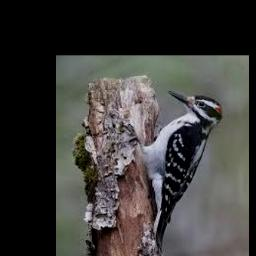Woodpecker: (141, 90, 222, 251)
